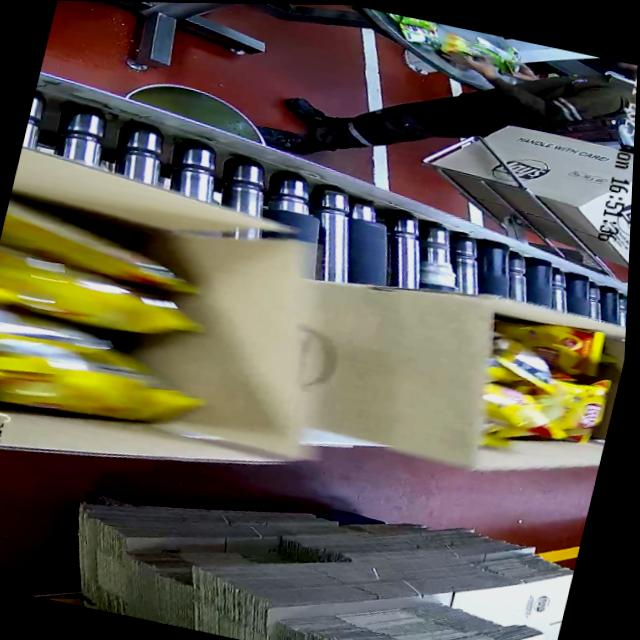SALTED: (0, 189, 242, 453), (468, 307, 621, 471)
